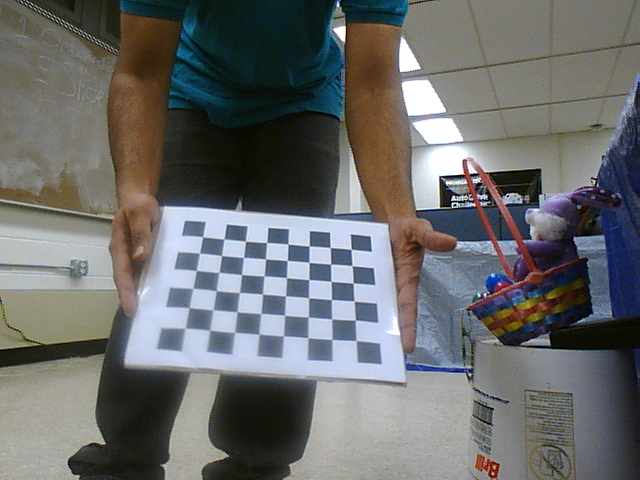bunny: (452, 151, 606, 343)
